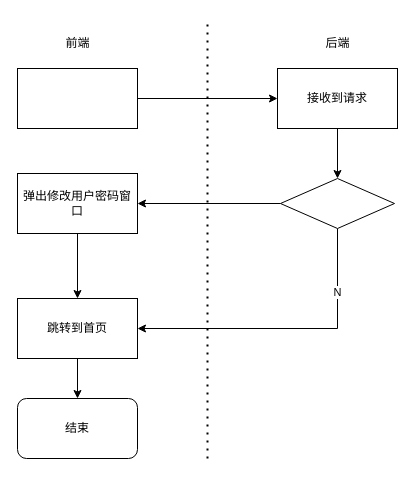
The diagram is 415 pixels wide and 477 high, and some of its shapes have lost their labels. Here are the shapes that lost their labels. From the top down, the centre of each, then its label:
At (77,98): "用户首次登录".
At (337,203): "首次登陆？".
